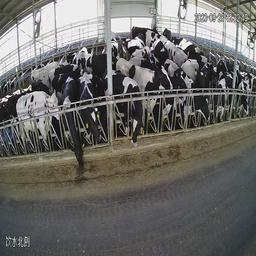cow: (9, 87, 60, 154), (59, 74, 89, 180), (106, 65, 145, 146), (82, 70, 107, 156), (140, 57, 175, 108), (213, 61, 235, 123), (172, 71, 196, 122), (30, 55, 70, 84), (192, 82, 212, 138), (152, 36, 184, 69), (120, 29, 145, 57), (238, 80, 249, 122)
